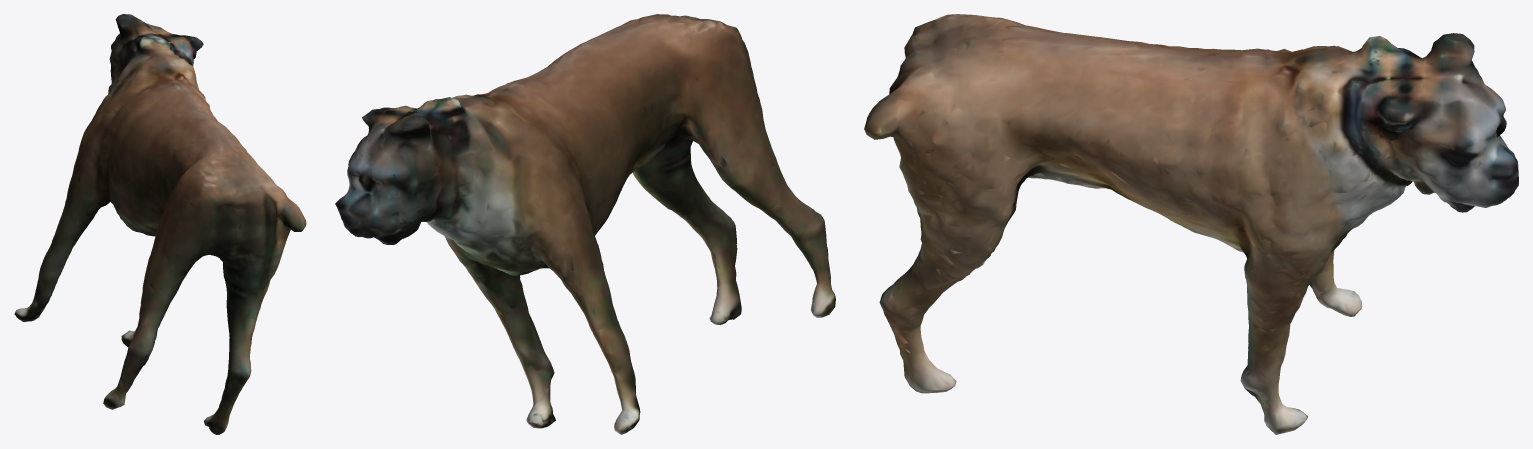
The model's file is Boxer.glb.
3 views of the same model, side by side, from view 1: azimuth 30°, elevation 25°; view 2: azimuth 150°, elevation 25°; view 3: azimuth 270°, elevation 25° (orthographic). The views are drawn at different scales.
Parts seen in each view (by area): view 1: mesh.obj; view 2: mesh.obj; view 3: mesh.obj.
Boxes of the visible parts, bbox=[...] form: mesh.obj: bbox=[14, 14, 306, 434]; mesh.obj: bbox=[335, 14, 835, 434]; mesh.obj: bbox=[864, 14, 1518, 434].
Bounding box in the file's own units: 0.6533 × 0.7373 × 1.01.
1 material, 1 textured.
